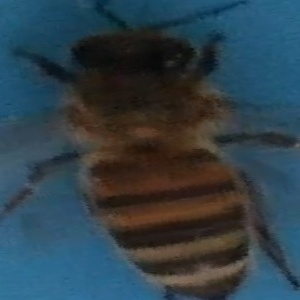bee: (7, 9, 293, 297)
